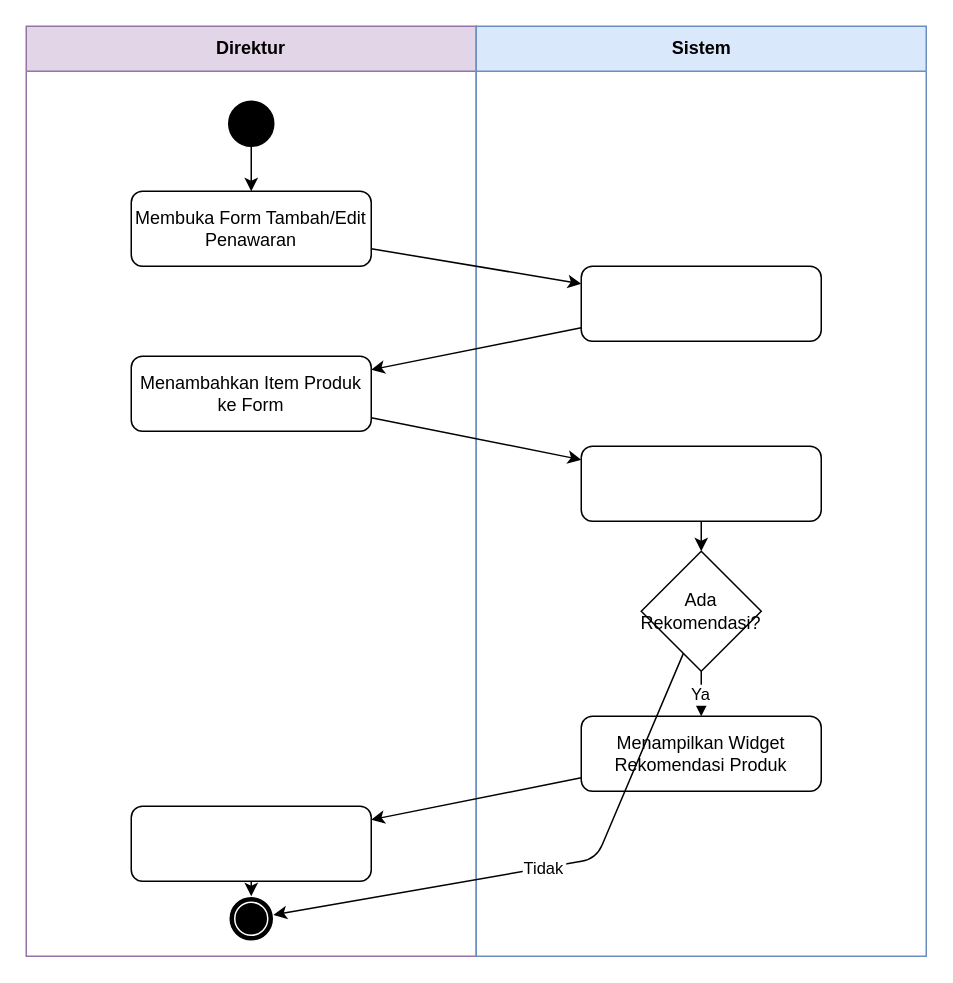
This 953x983 diagram has some shape labels left out. The centre of each missing label's shape, as x and y in pixels:
Melihat/Memilih Rekomendasi (Opsional): point (250, 843)
Menampilkan Form Penawaran: point (700, 303)
Mencari Rules Asosiasi (Apriori): point (700, 483)
